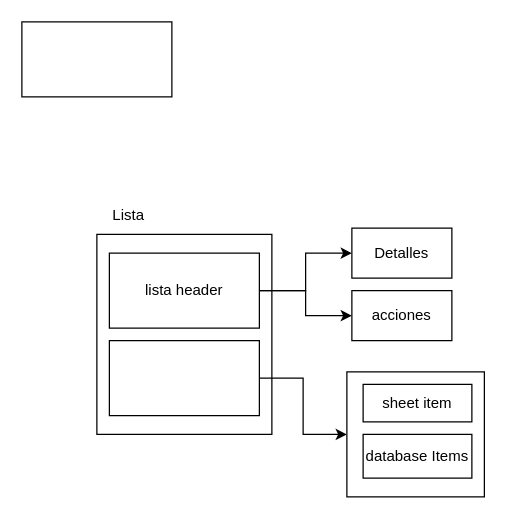
This 506x529 diagram has some shape labels left out. The box of each missing label's shape, as (x1, y1, x2, y2) in pixels:
GAUTAMA PRECIOS: (21, 21, 172, 97)
lista items: (108, 339, 259, 416)
